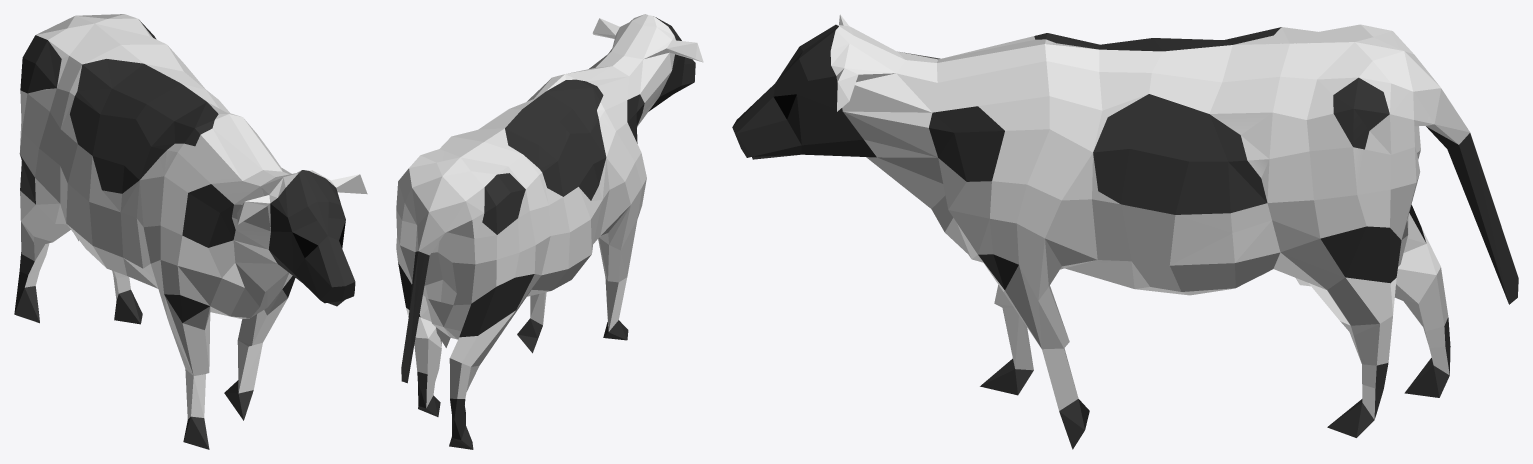
File: Cow_1.FBX
3 renders of one model, left to right at view 1: azimuth 30°, elevation 25°; view 2: azimuth 150°, elevation 25°; view 3: azimuth 270°, elevation 25°, orthographic. The views are drawn at different scales.
Visible parts, largest first — view 1: Cow_1; view 2: Cow_1; view 3: Cow_1.
Boxes of the visible parts, x1,y1,x2,y2 form: Cow_1: (14,14,367,449); Cow_1: (396,14,703,449); Cow_1: (732,14,1518,449).
Bounding box in the file's own units: 0.7897 × 1.63 × 2.89.
Materials: 1 (1 with a texture image).
